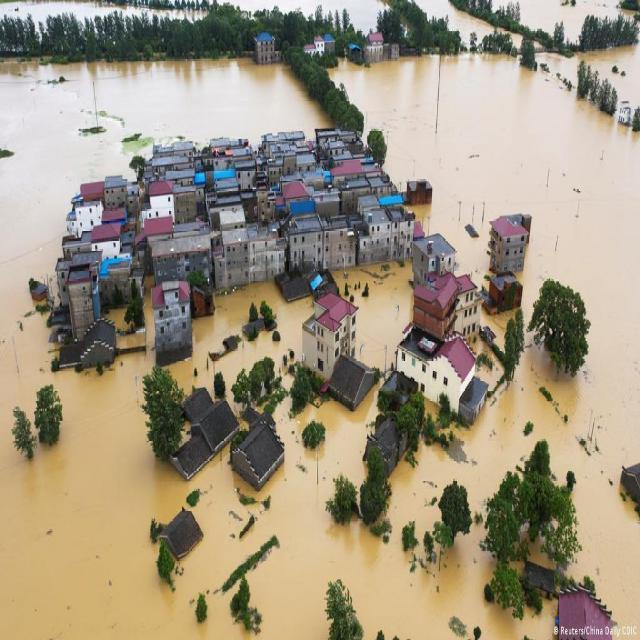flood: (0, 45, 640, 640), (170, 281, 313, 388), (334, 262, 412, 370), (219, 0, 384, 30), (520, 0, 622, 40), (417, 0, 493, 40), (0, 0, 142, 20)
house: (396, 327, 487, 413), (171, 390, 238, 476), (414, 266, 482, 338), (305, 284, 355, 374), (143, 278, 195, 356), (232, 413, 284, 487), (556, 582, 612, 640), (326, 354, 378, 414), (150, 240, 214, 284), (488, 212, 530, 276), (410, 231, 460, 280), (158, 510, 204, 560), (65, 276, 97, 340), (287, 216, 324, 269), (250, 226, 284, 282), (216, 231, 248, 290), (324, 214, 358, 269), (360, 210, 392, 266), (484, 272, 524, 314), (456, 377, 491, 425), (390, 206, 415, 260), (101, 259, 131, 301), (91, 223, 120, 259), (366, 31, 399, 62), (148, 182, 175, 218), (102, 173, 128, 210), (278, 180, 309, 211), (622, 460, 640, 510), (342, 182, 372, 212), (74, 202, 102, 234), (174, 186, 198, 223), (313, 187, 342, 215), (318, 129, 346, 157), (140, 217, 173, 240), (152, 140, 193, 158), (218, 203, 246, 229), (254, 190, 276, 223), (254, 33, 276, 65), (262, 130, 305, 146), (304, 34, 335, 56), (408, 178, 432, 206), (332, 158, 362, 180), (78, 180, 104, 202), (60, 240, 92, 257), (237, 160, 255, 190), (369, 174, 392, 197), (202, 154, 234, 170), (215, 168, 238, 190), (212, 138, 248, 152), (168, 168, 195, 186), (265, 162, 283, 187), (154, 158, 190, 170), (104, 208, 128, 226), (296, 154, 317, 173), (358, 195, 381, 211), (268, 144, 290, 160), (381, 195, 404, 207), (284, 153, 296, 175)
